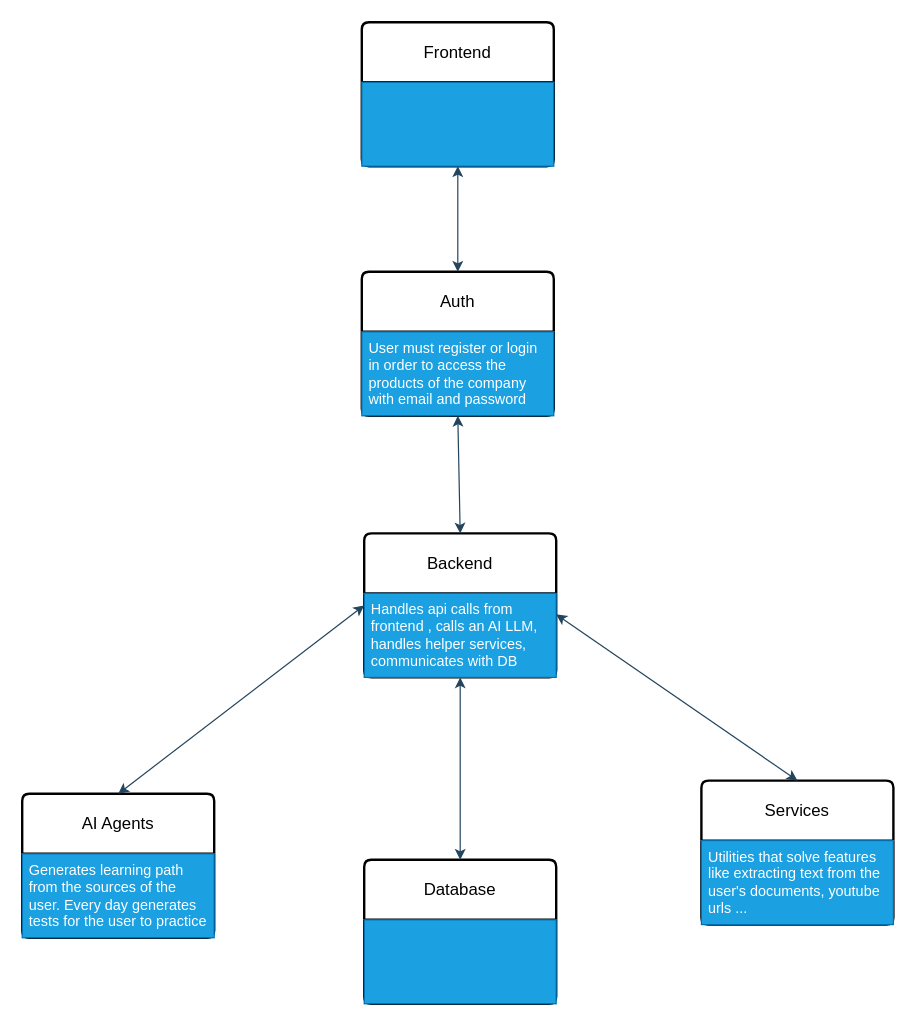
Image size: 914x1025. Some labels were removed from this diagram. The centre of each missing label's shape, as x and y in pixels:
"Stores data of Users, Documents, Learning Paths, Study Plans" goes at pixel 459 961.
"Website where user can register/login , upload docs and youtube urls" goes at pixel 457 123.
